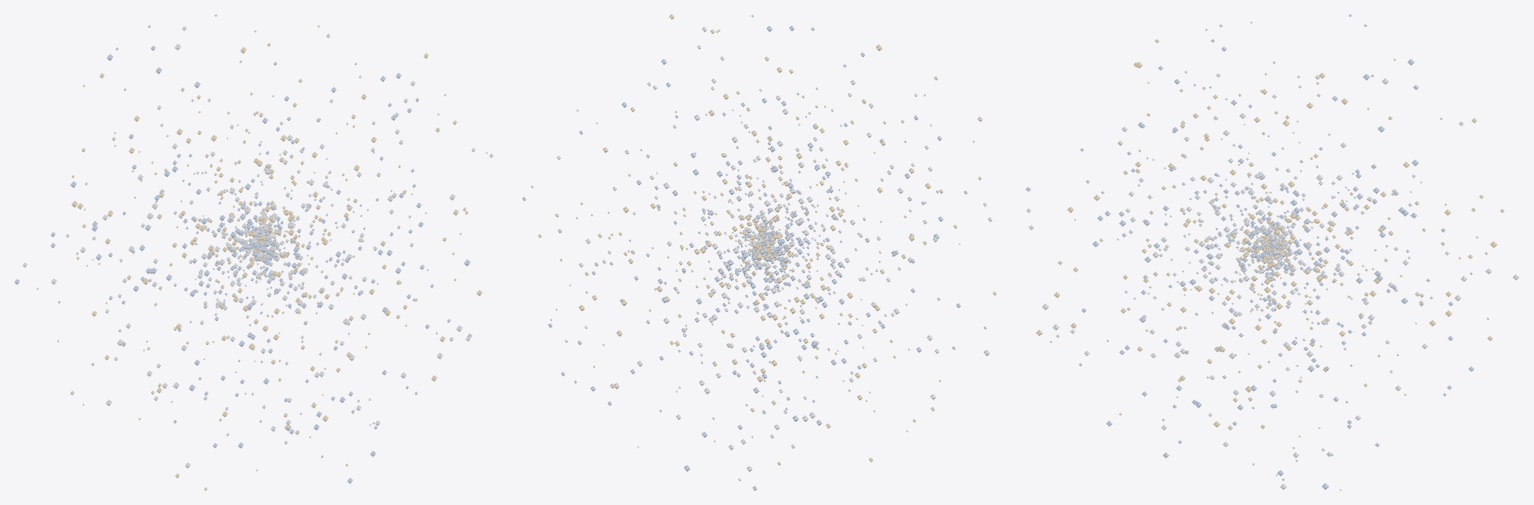
3 views of the same model, side by side, from view 1: azimuth 30°, elevation 25°; view 2: azimuth 150°, elevation 25°; view 3: azimuth 270°, elevation 25° (orthographic). The views are drawn at different scales.
Size of the model in its own units: 4.9 by 4.77 by 5.1.
